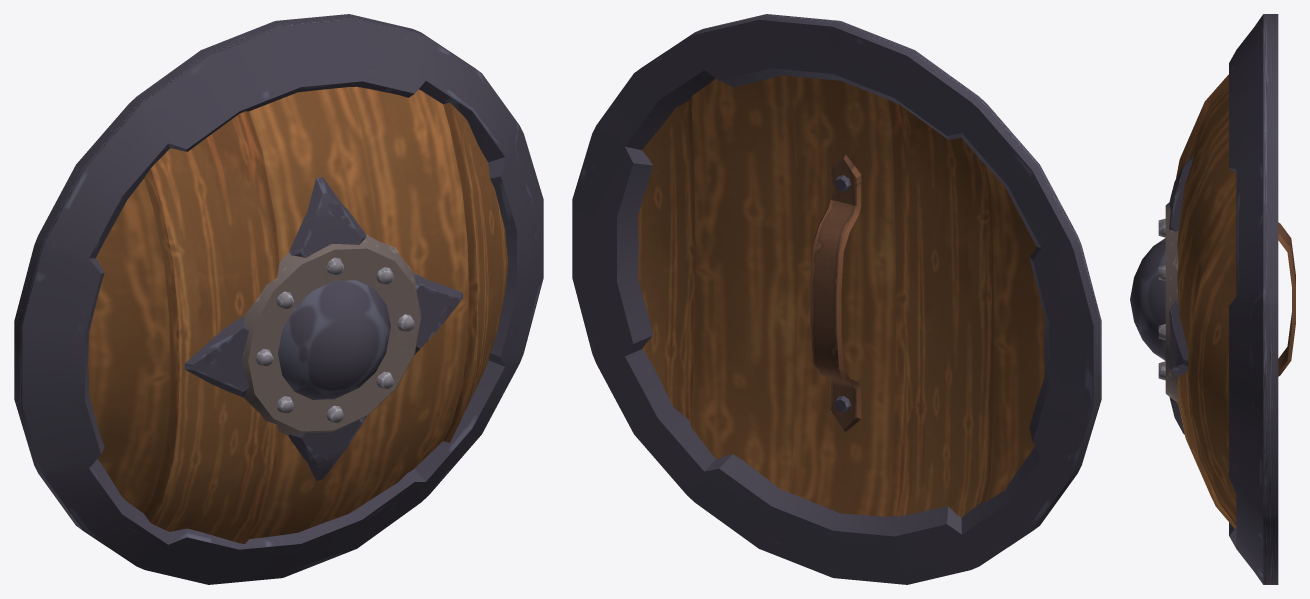
The model's file is shield_wooden.glb.
3 views of the same model, side by side, from view 1: azimuth 30°, elevation 25°; view 2: azimuth 150°, elevation 25°; view 3: azimuth 270°, elevation 25° (orthographic). The views are drawn at different scales.
Visible parts, largest first — view 1: Shield_Wooden; view 2: Shield_Wooden; view 3: Shield_Wooden.
Boxes of the visible parts, bbox=[...] form: Shield_Wooden: bbox=[14, 14, 543, 584]; Shield_Wooden: bbox=[572, 14, 1101, 584]; Shield_Wooden: bbox=[1130, 14, 1295, 584].
Size of the model in its own units: 0.6146 by 0.6209 by 0.1788.
Materials: 3 (3 with a texture image).
